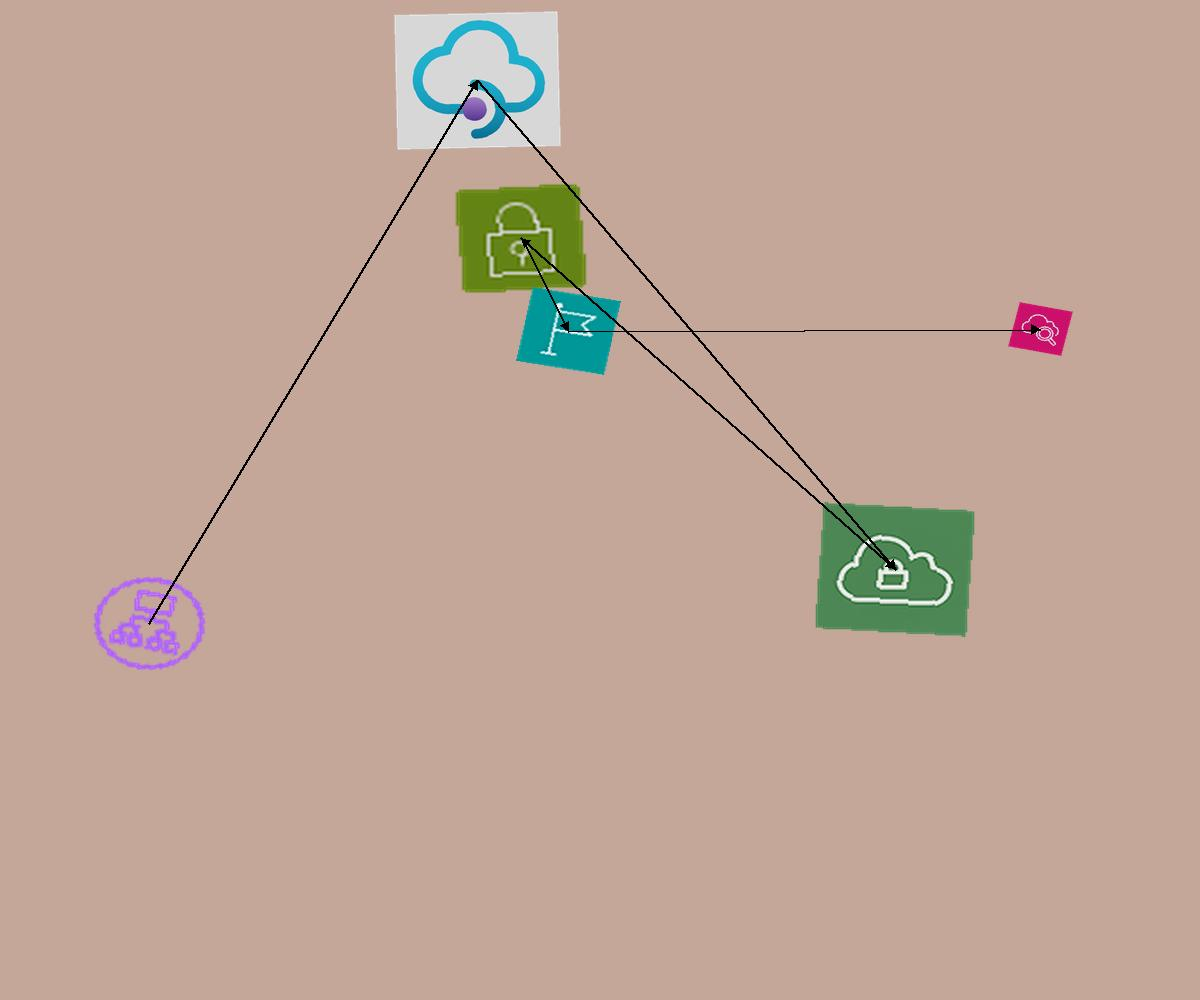AWS-CloudWatch: (1008, 302, 1073, 356)
AWS-Private_vpc: (814, 502, 976, 637)
AWS-Public-subnet: (453, 182, 589, 295)
AWS-Region: (516, 287, 621, 375)
AWS-Res_Elastic-Load-Balancing_Application-Load-Balancer: (77, 563, 222, 684)
Azure_api_gateway: (394, 11, 561, 150)
